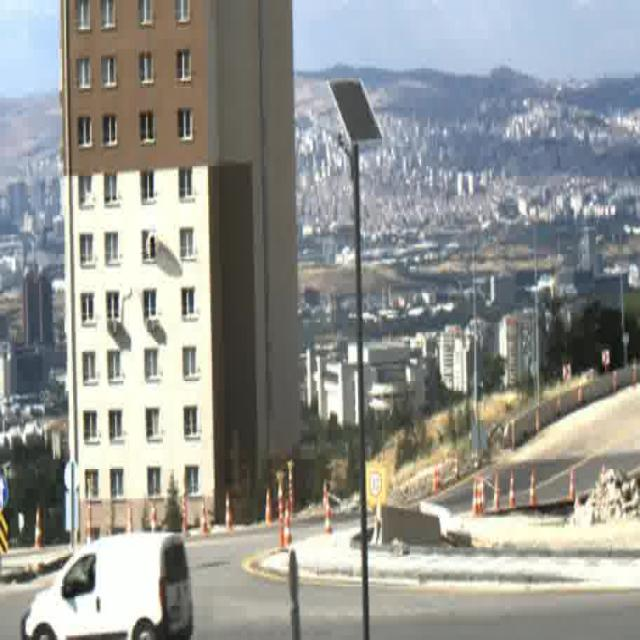Car: (22, 529, 192, 640)
